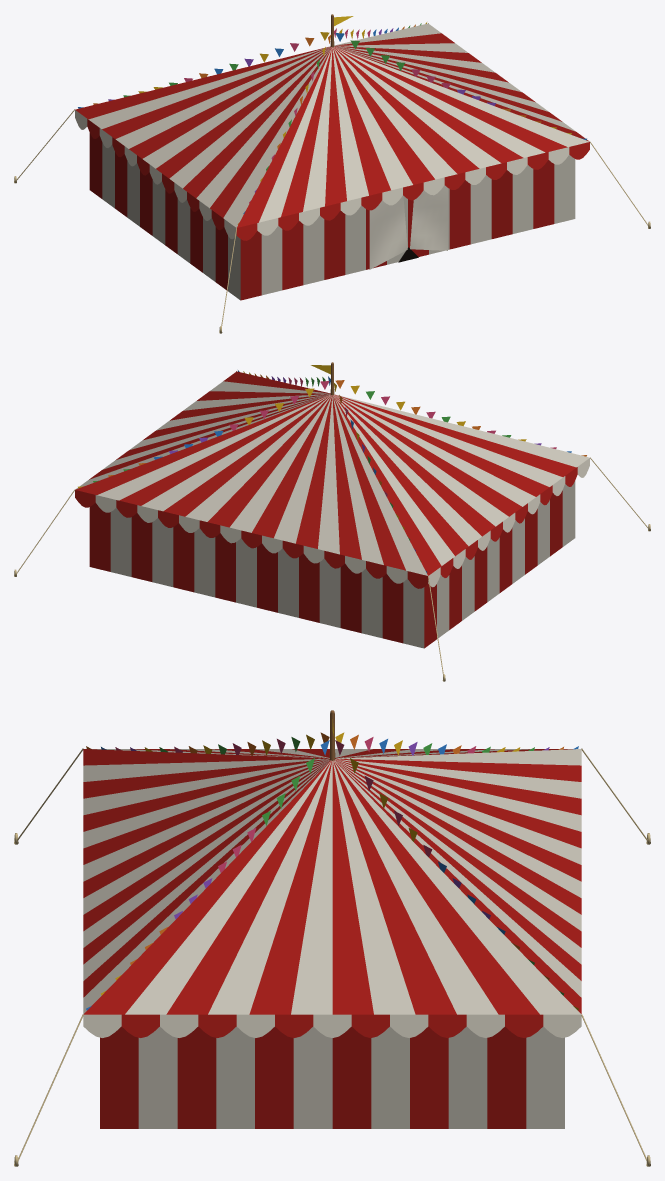
The model's file is AgilityTent.glb.
The picture shows the model from 3 angles, top to bottom: view 1: azimuth 30°, elevation 25°; view 2: azimuth 150°, elevation 25°; view 3: azimuth 270°, elevation 25°; orthographic projection. The views are drawn at different scales.
Visible parts, largest first — view 1: Canvas, Valance, DoorFlaps, Bunting, Ropes; view 2: Canvas, Valance, Bunting, Ropes; view 3: Canvas, Valance, Bunting, Ropes.
Boxes of the visible parts, x1=… form: Canvas: x1=75, y1=23, x2=589, y2=300; Valance: x1=75, y1=110, x2=589, y2=240; DoorFlaps: x1=369, y1=185, x2=447, y2=269; Bunting: x1=78, y1=22, x2=586, y2=224; Ropes: x1=14, y1=23, x2=650, y2=333; Canvas: x1=75, y1=371, x2=589, y2=648; Valance: x1=75, y1=458, x2=589, y2=588; Bunting: x1=78, y1=370, x2=586, y2=572; Ropes: x1=14, y1=371, x2=650, y2=681; Canvas: x1=83, y1=749, x2=581, y2=1128; Valance: x1=83, y1=1014, x2=581, y2=1037; Bunting: x1=86, y1=732, x2=578, y2=1010; Ropes: x1=14, y1=748, x2=650, y2=1166.
Bounding box in the file's own units: 8.24 × 3.5 × 6.85.
